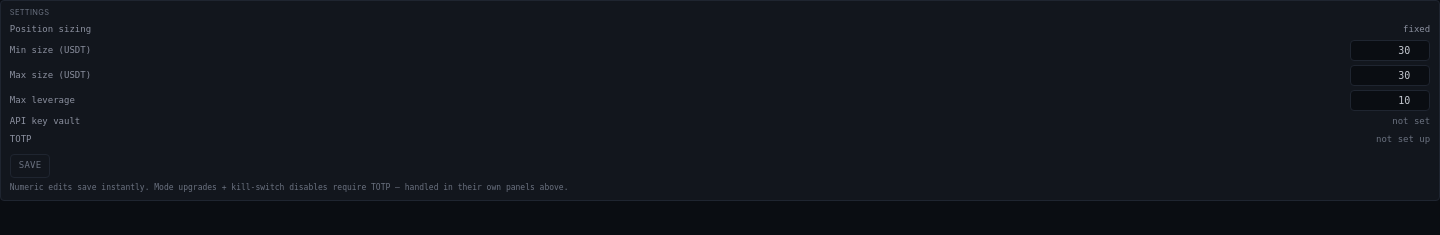
Test: AutonomousSettings › API failure surfaces as alert
The image size is (1440, 235).
Step 1. Replace the text in the number field named "max leverage" with "5" → point(1390, 101), box [1350,90,1430,111]
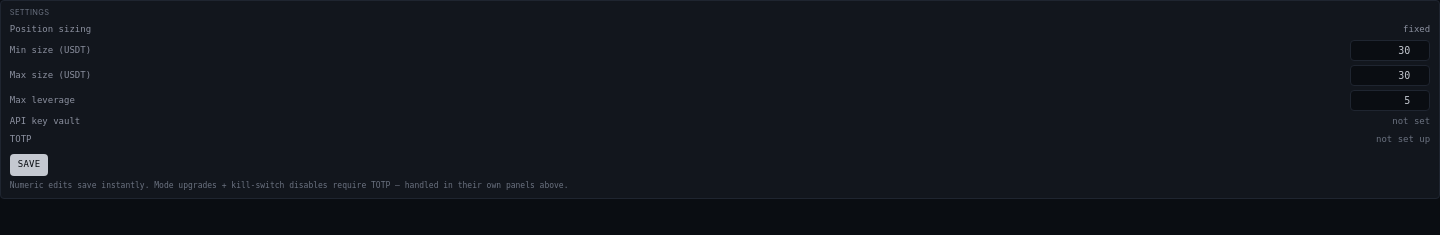
Step 2. Click the button "Save" → point(29, 165), box [10,154,48,176]
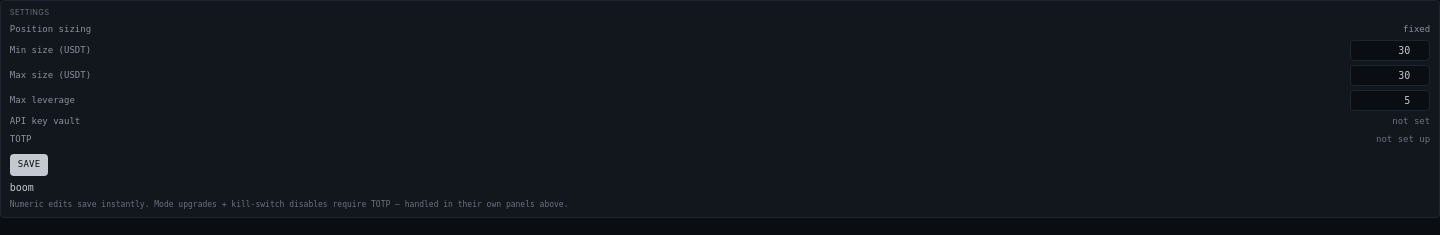
Result: the message reads "boom" at [10,182,34,193]
